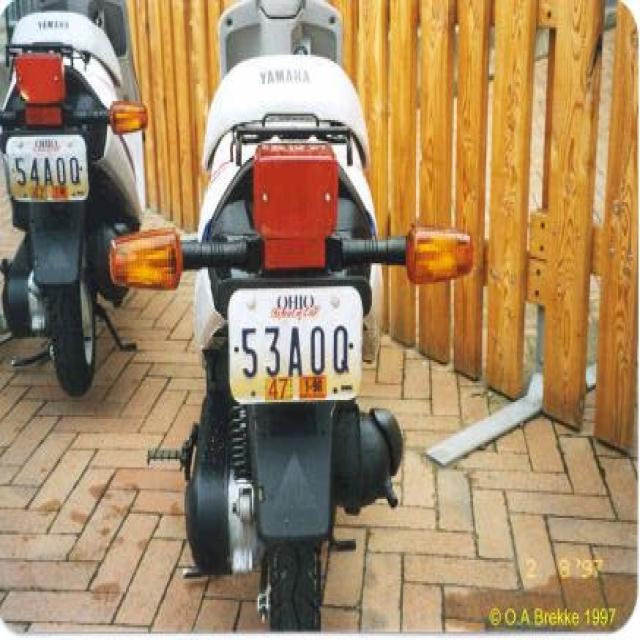number plate: (226, 282, 363, 404)
